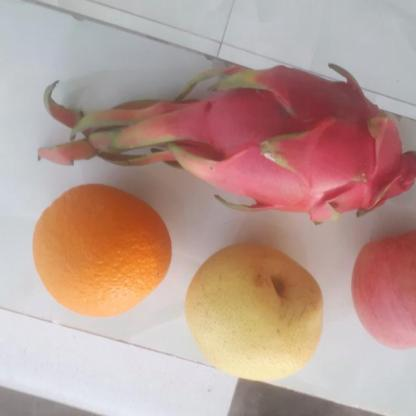apple: (348, 230, 416, 353)
orange: (24, 186, 177, 318)
pear: (181, 244, 332, 379)
